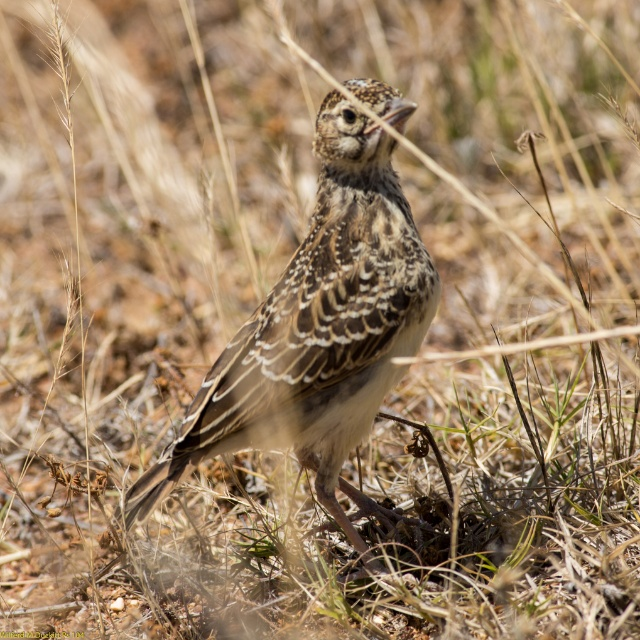Sparrow: (112, 76, 444, 591)
